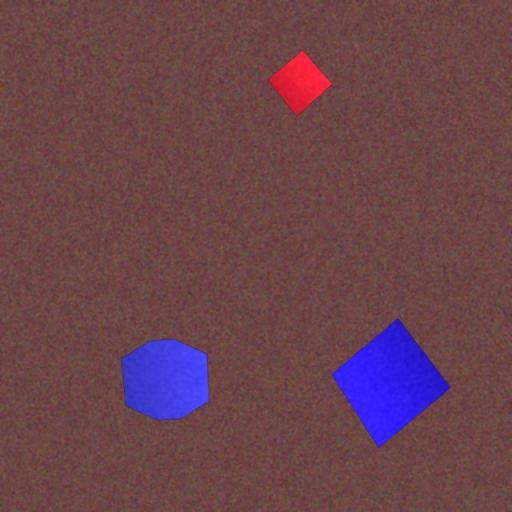BLUE_SQUARE: (331, 318, 452, 448)
RED_SQUARE: (267, 50, 333, 116)
